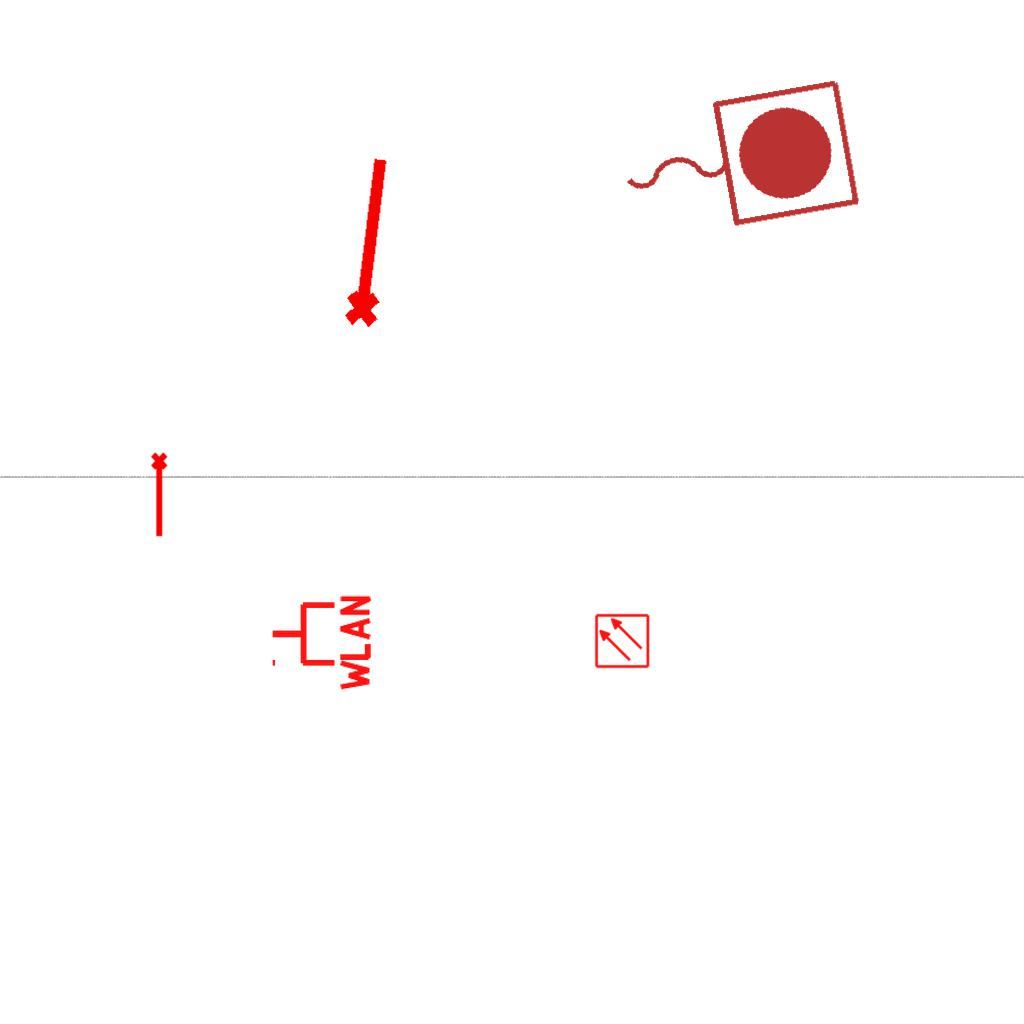ASR_Ansaugoeffnung: (334, 150, 402, 332), (149, 451, 172, 539)
RMO_Rauchmelder_optischer: (594, 613, 650, 669)
WLAN: (268, 591, 373, 695)
Zugtaster: (603, 67, 869, 253)
